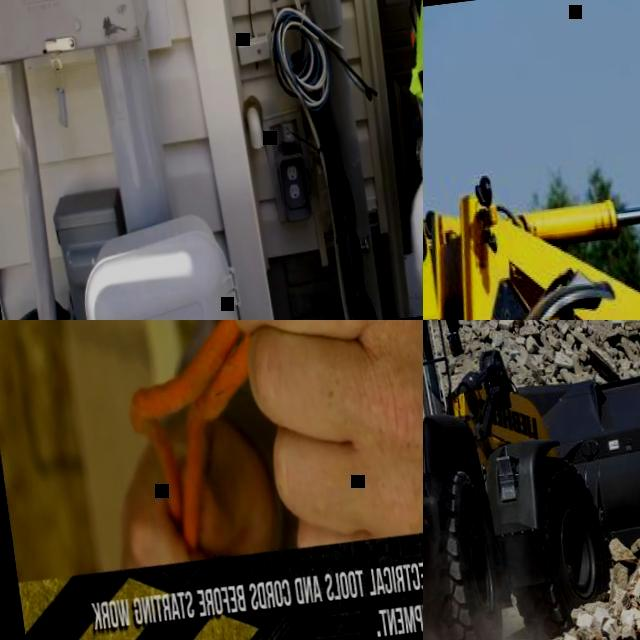machinery: (423, 0, 640, 320), (423, 320, 640, 640)
person: (50, 320, 423, 570), (304, 0, 423, 320)
